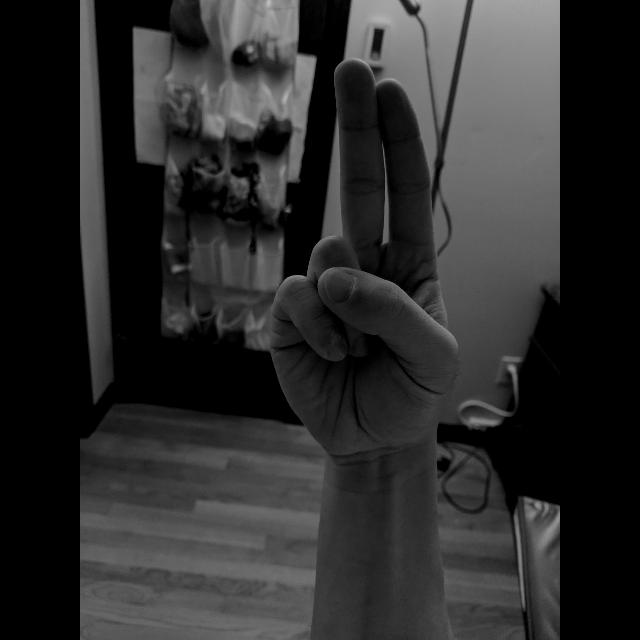U: (264, 53, 464, 460)
